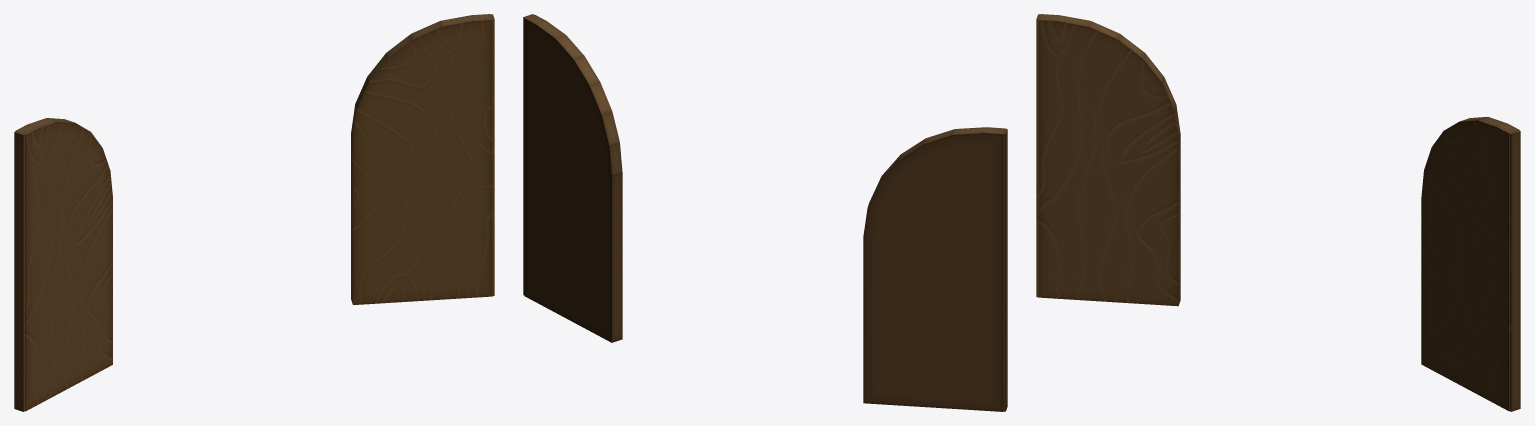
File: GATE OPEN.fbx
3 renders of one model, left to right at view 1: azimuth 30°, elevation 25°; view 2: azimuth 150°, elevation 25°; view 3: azimuth 330°, elevation 25°, orthographic.
Visible parts, largest first — view 1: GATE OPEN RIGHT, GATE OPEN LEFT; view 2: GATE OPEN LEFT, GATE OPEN RIGHT; view 3: GATE OPEN LEFT, GATE OPEN RIGHT.
Boxes of the visible parts, x1,y1,x2,y2 form: GATE OPEN RIGHT: (351, 14, 494, 304); GATE OPEN LEFT: (14, 118, 112, 411); GATE OPEN LEFT: (863, 127, 1007, 411); GATE OPEN RIGHT: (523, 14, 622, 342); GATE OPEN LEFT: (1036, 14, 1180, 306); GATE OPEN RIGHT: (1421, 117, 1520, 411).
Bounding box in the file's own units: 817 × 451 × 98.39.
Materials: 2 (2 with a texture image).
